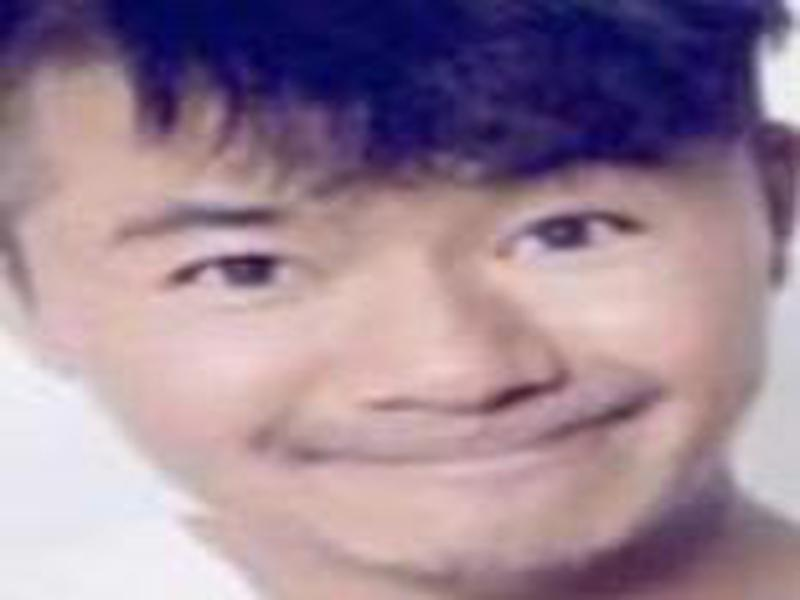without_mask: (34, 42, 768, 587)
